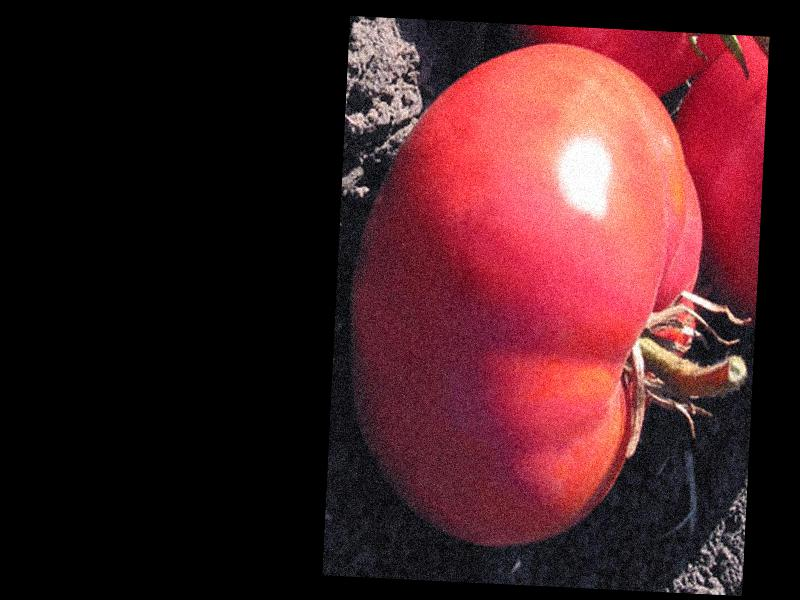Tomato: (339, 34, 709, 556)
